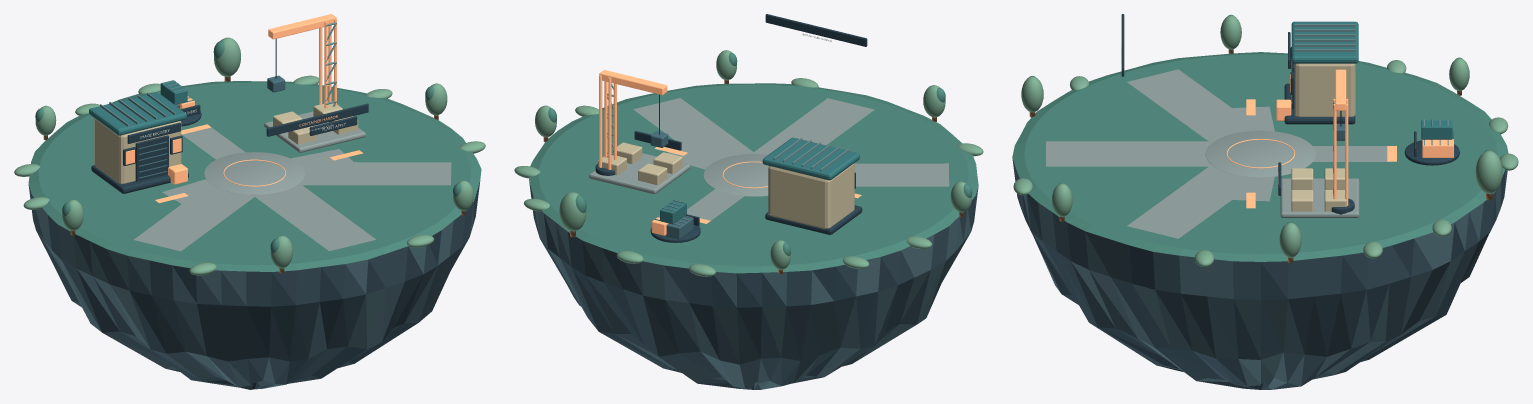
Rendered from district-infrastructure.glb.
3 views of the same model, side by side, from view 1: azimuth 30°, elevation 25°; view 2: azimuth 150°, elevation 25°; view 3: azimuth 270°, elevation 25° (orthographic). The views are drawn at different scales.
Visible parts, largest first — view 1: district-infrastructure; view 2: district-infrastructure; view 3: district-infrastructure.
Part boxes in pixels (box(x1,y1,x2,y2)): district-infrastructure: box(14, 14, 485, 389); district-infrastructure: box(514, 14, 983, 389); district-infrastructure: box(1012, 14, 1518, 389).
Bounding box in the file's own units: 13.15 × 9.78 × 12.85.
